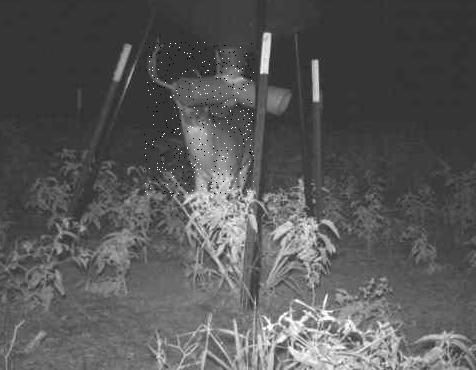Deer: (143, 43, 253, 197)
